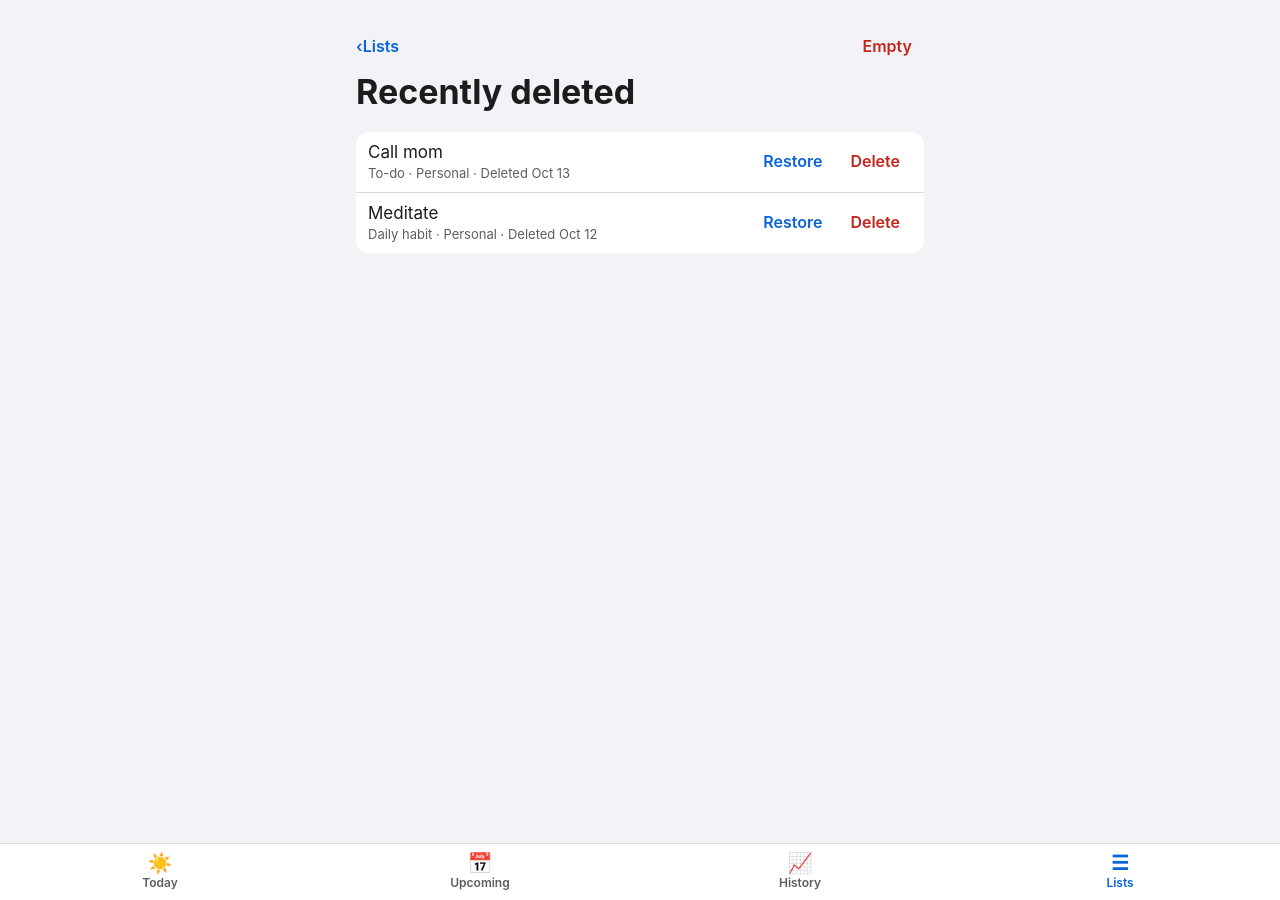
Test case: Recently deleted › deleting for good › keeps the item when the confirmation is cancelled
Click the button with aria-label "Delete Meditate": (875, 223) [838,201,912,245]
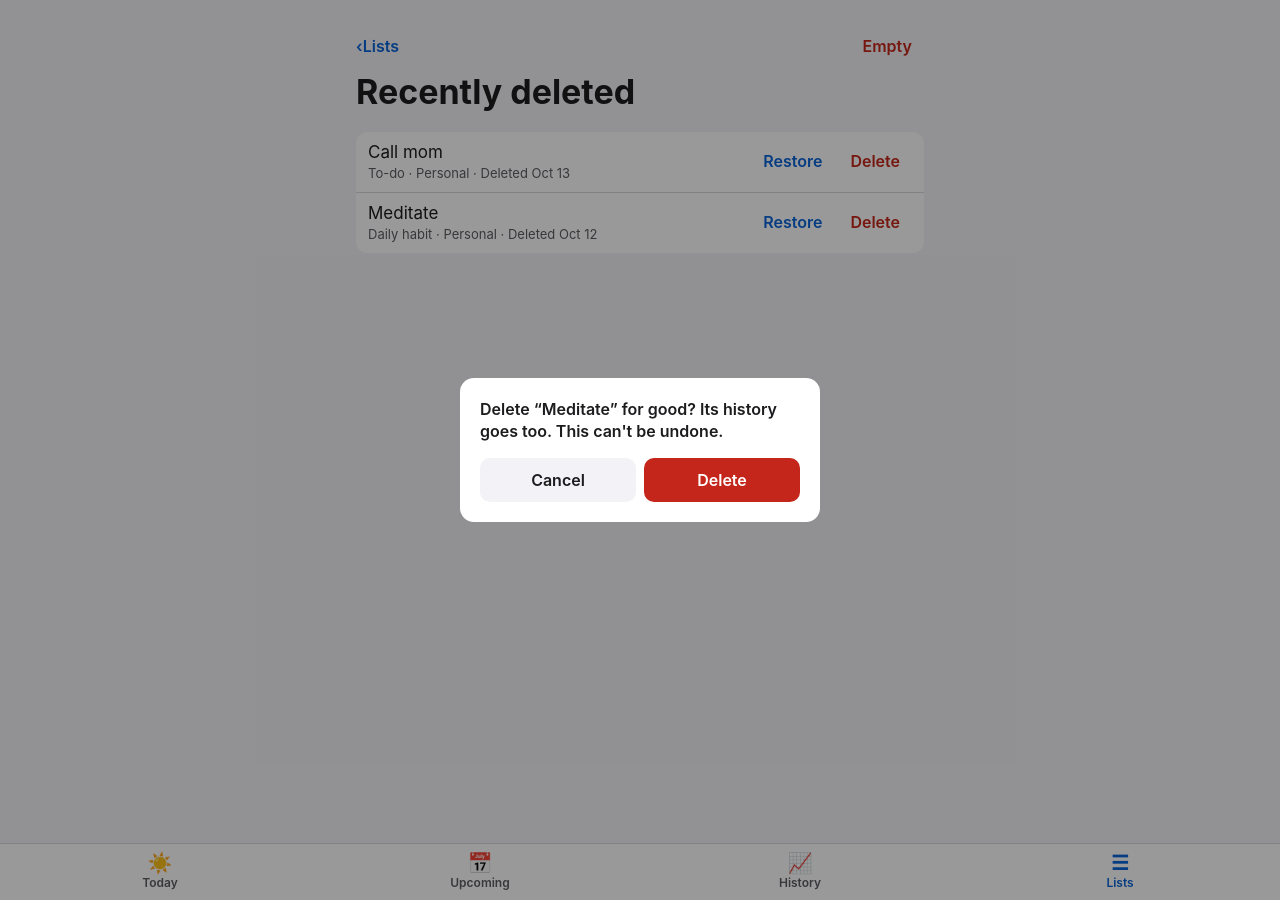
Click the button "Cancel": (558, 480) [480,458,636,502]
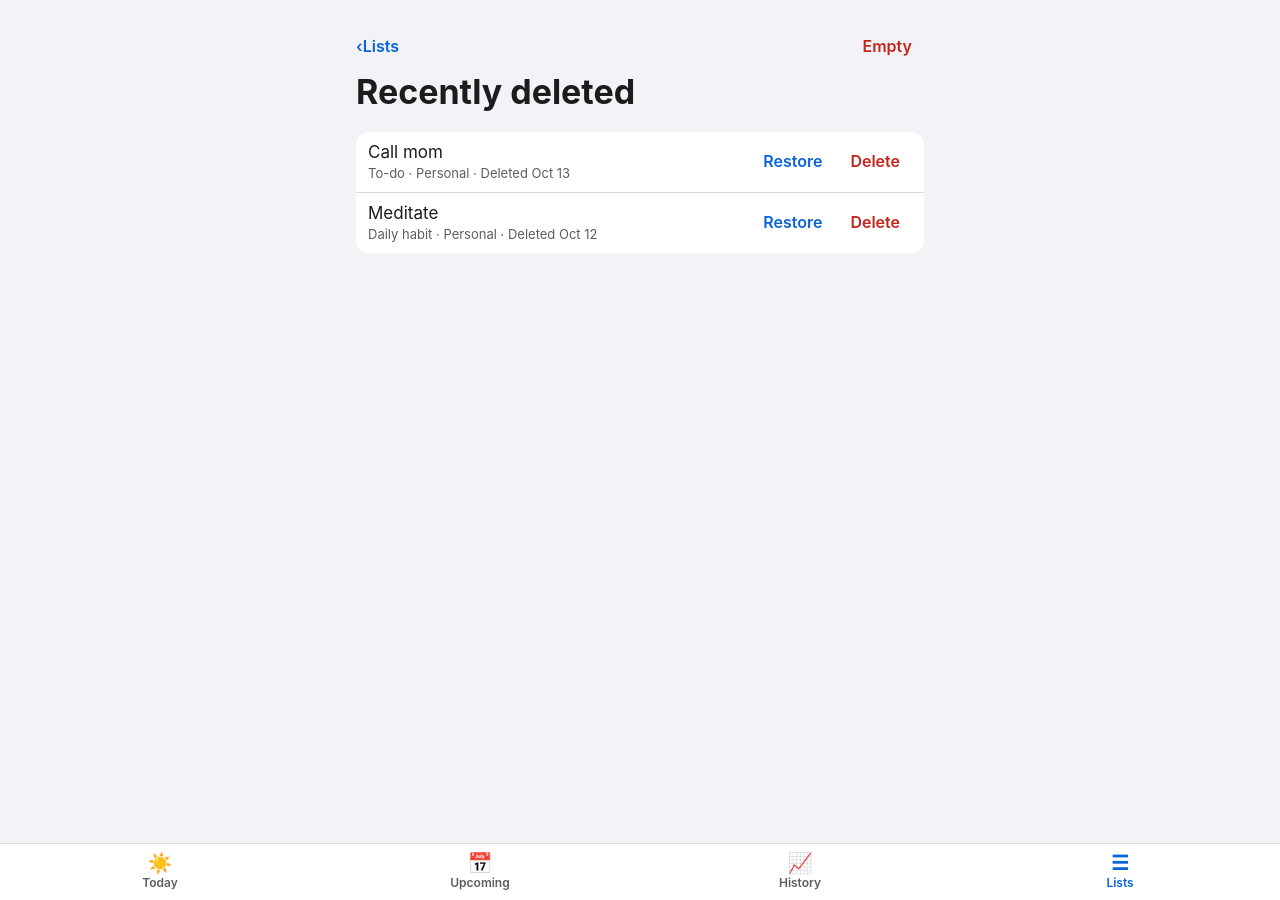
Expected: the button with aria-label "Restore Meditate" is shown, [751,201,834,245]
Result: the dialog is gone
